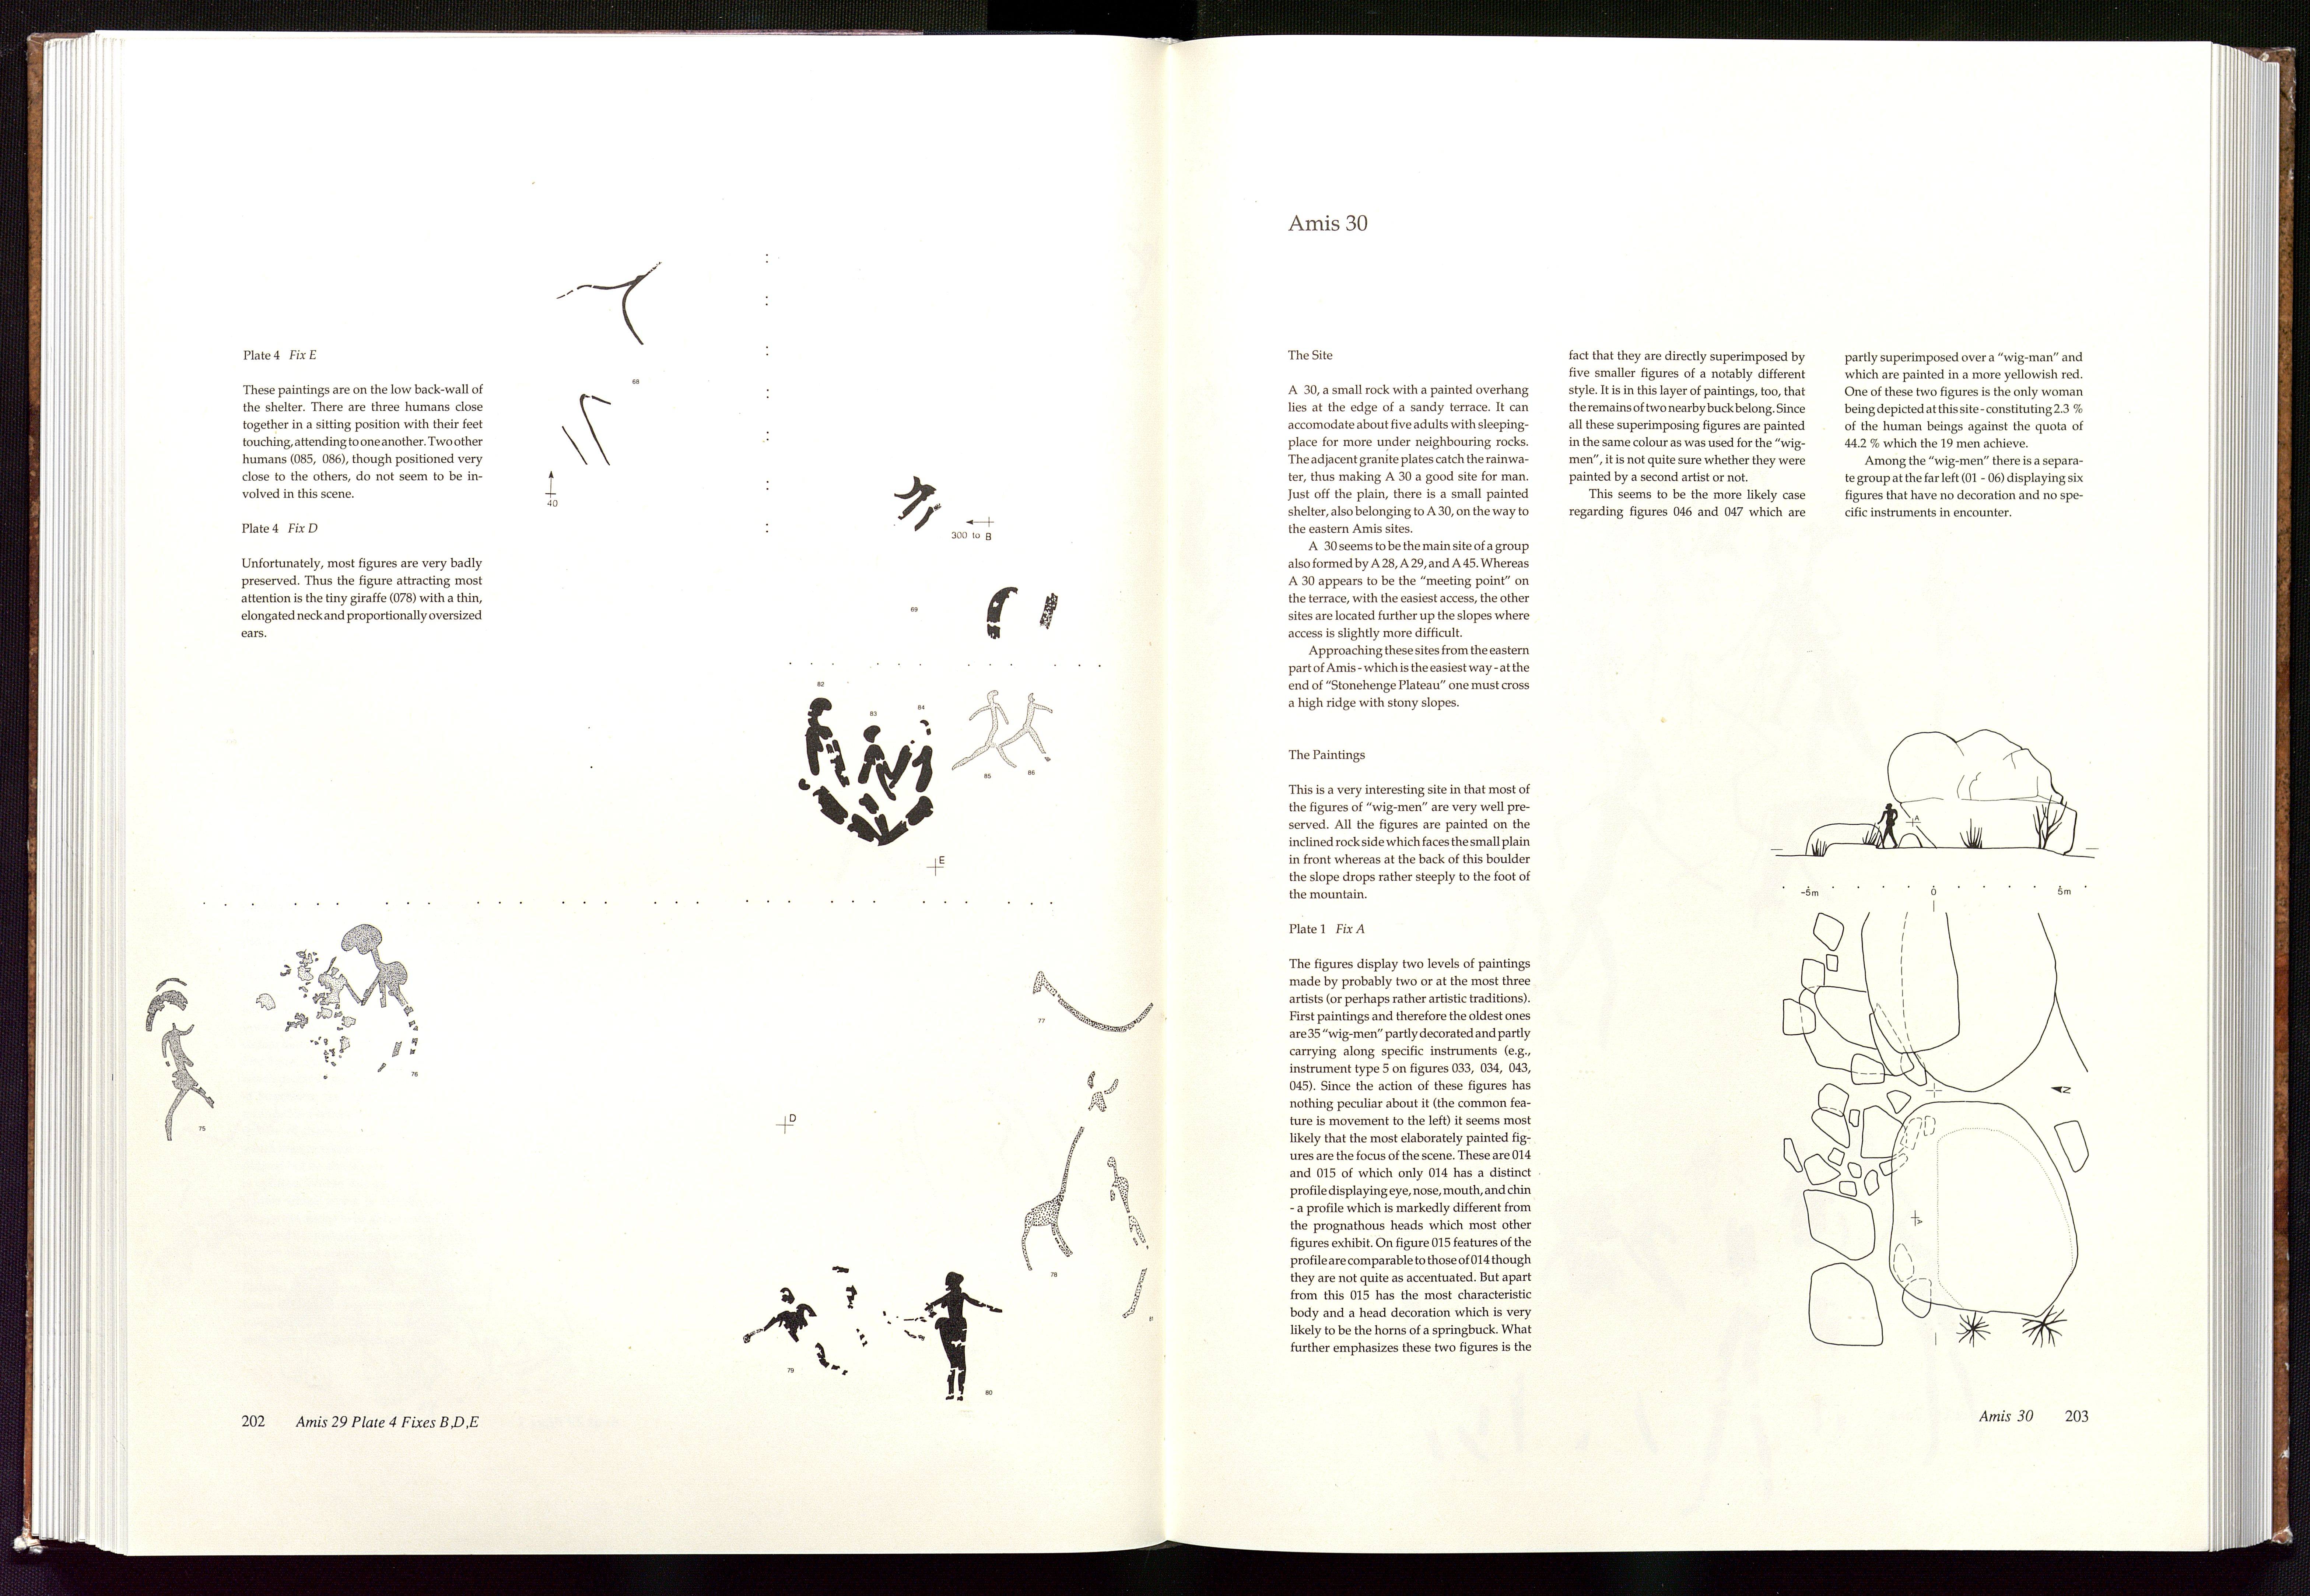human: (328, 909, 439, 1077), (144, 976, 223, 1155), (743, 1270, 854, 1383), (800, 688, 869, 853), (920, 1268, 1001, 1406), (974, 681, 1068, 782), (886, 694, 935, 856), (849, 718, 901, 848), (952, 688, 1013, 787)
